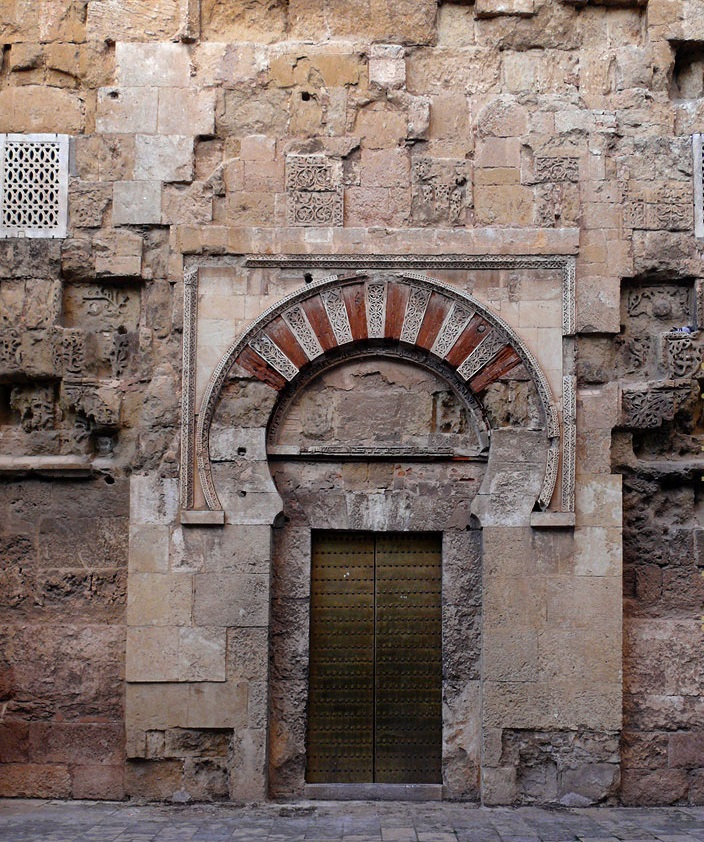arco-herradura: (246, 320, 508, 556)
